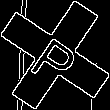P_NE: (25, 24, 85, 86)
